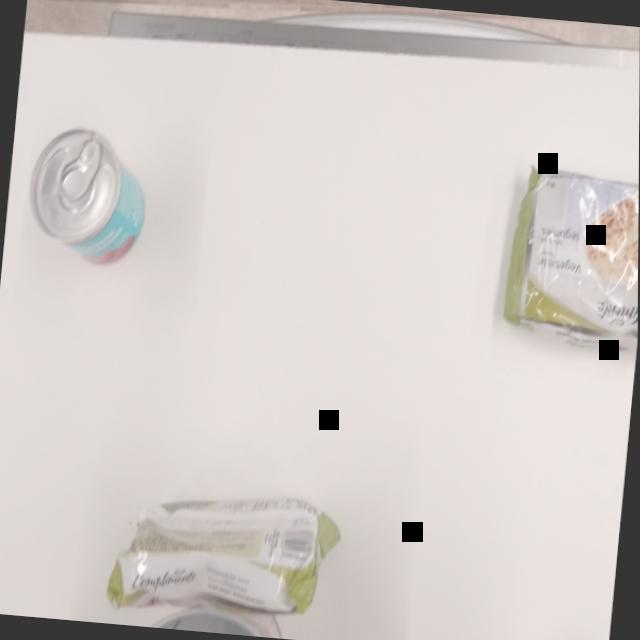noodles: (100, 477, 347, 628), (496, 159, 639, 358)
sausages: (19, 119, 155, 275)
